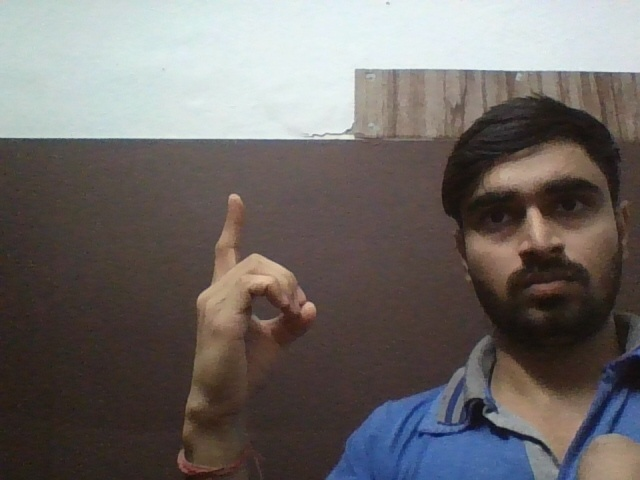D: (175, 183, 327, 404)
